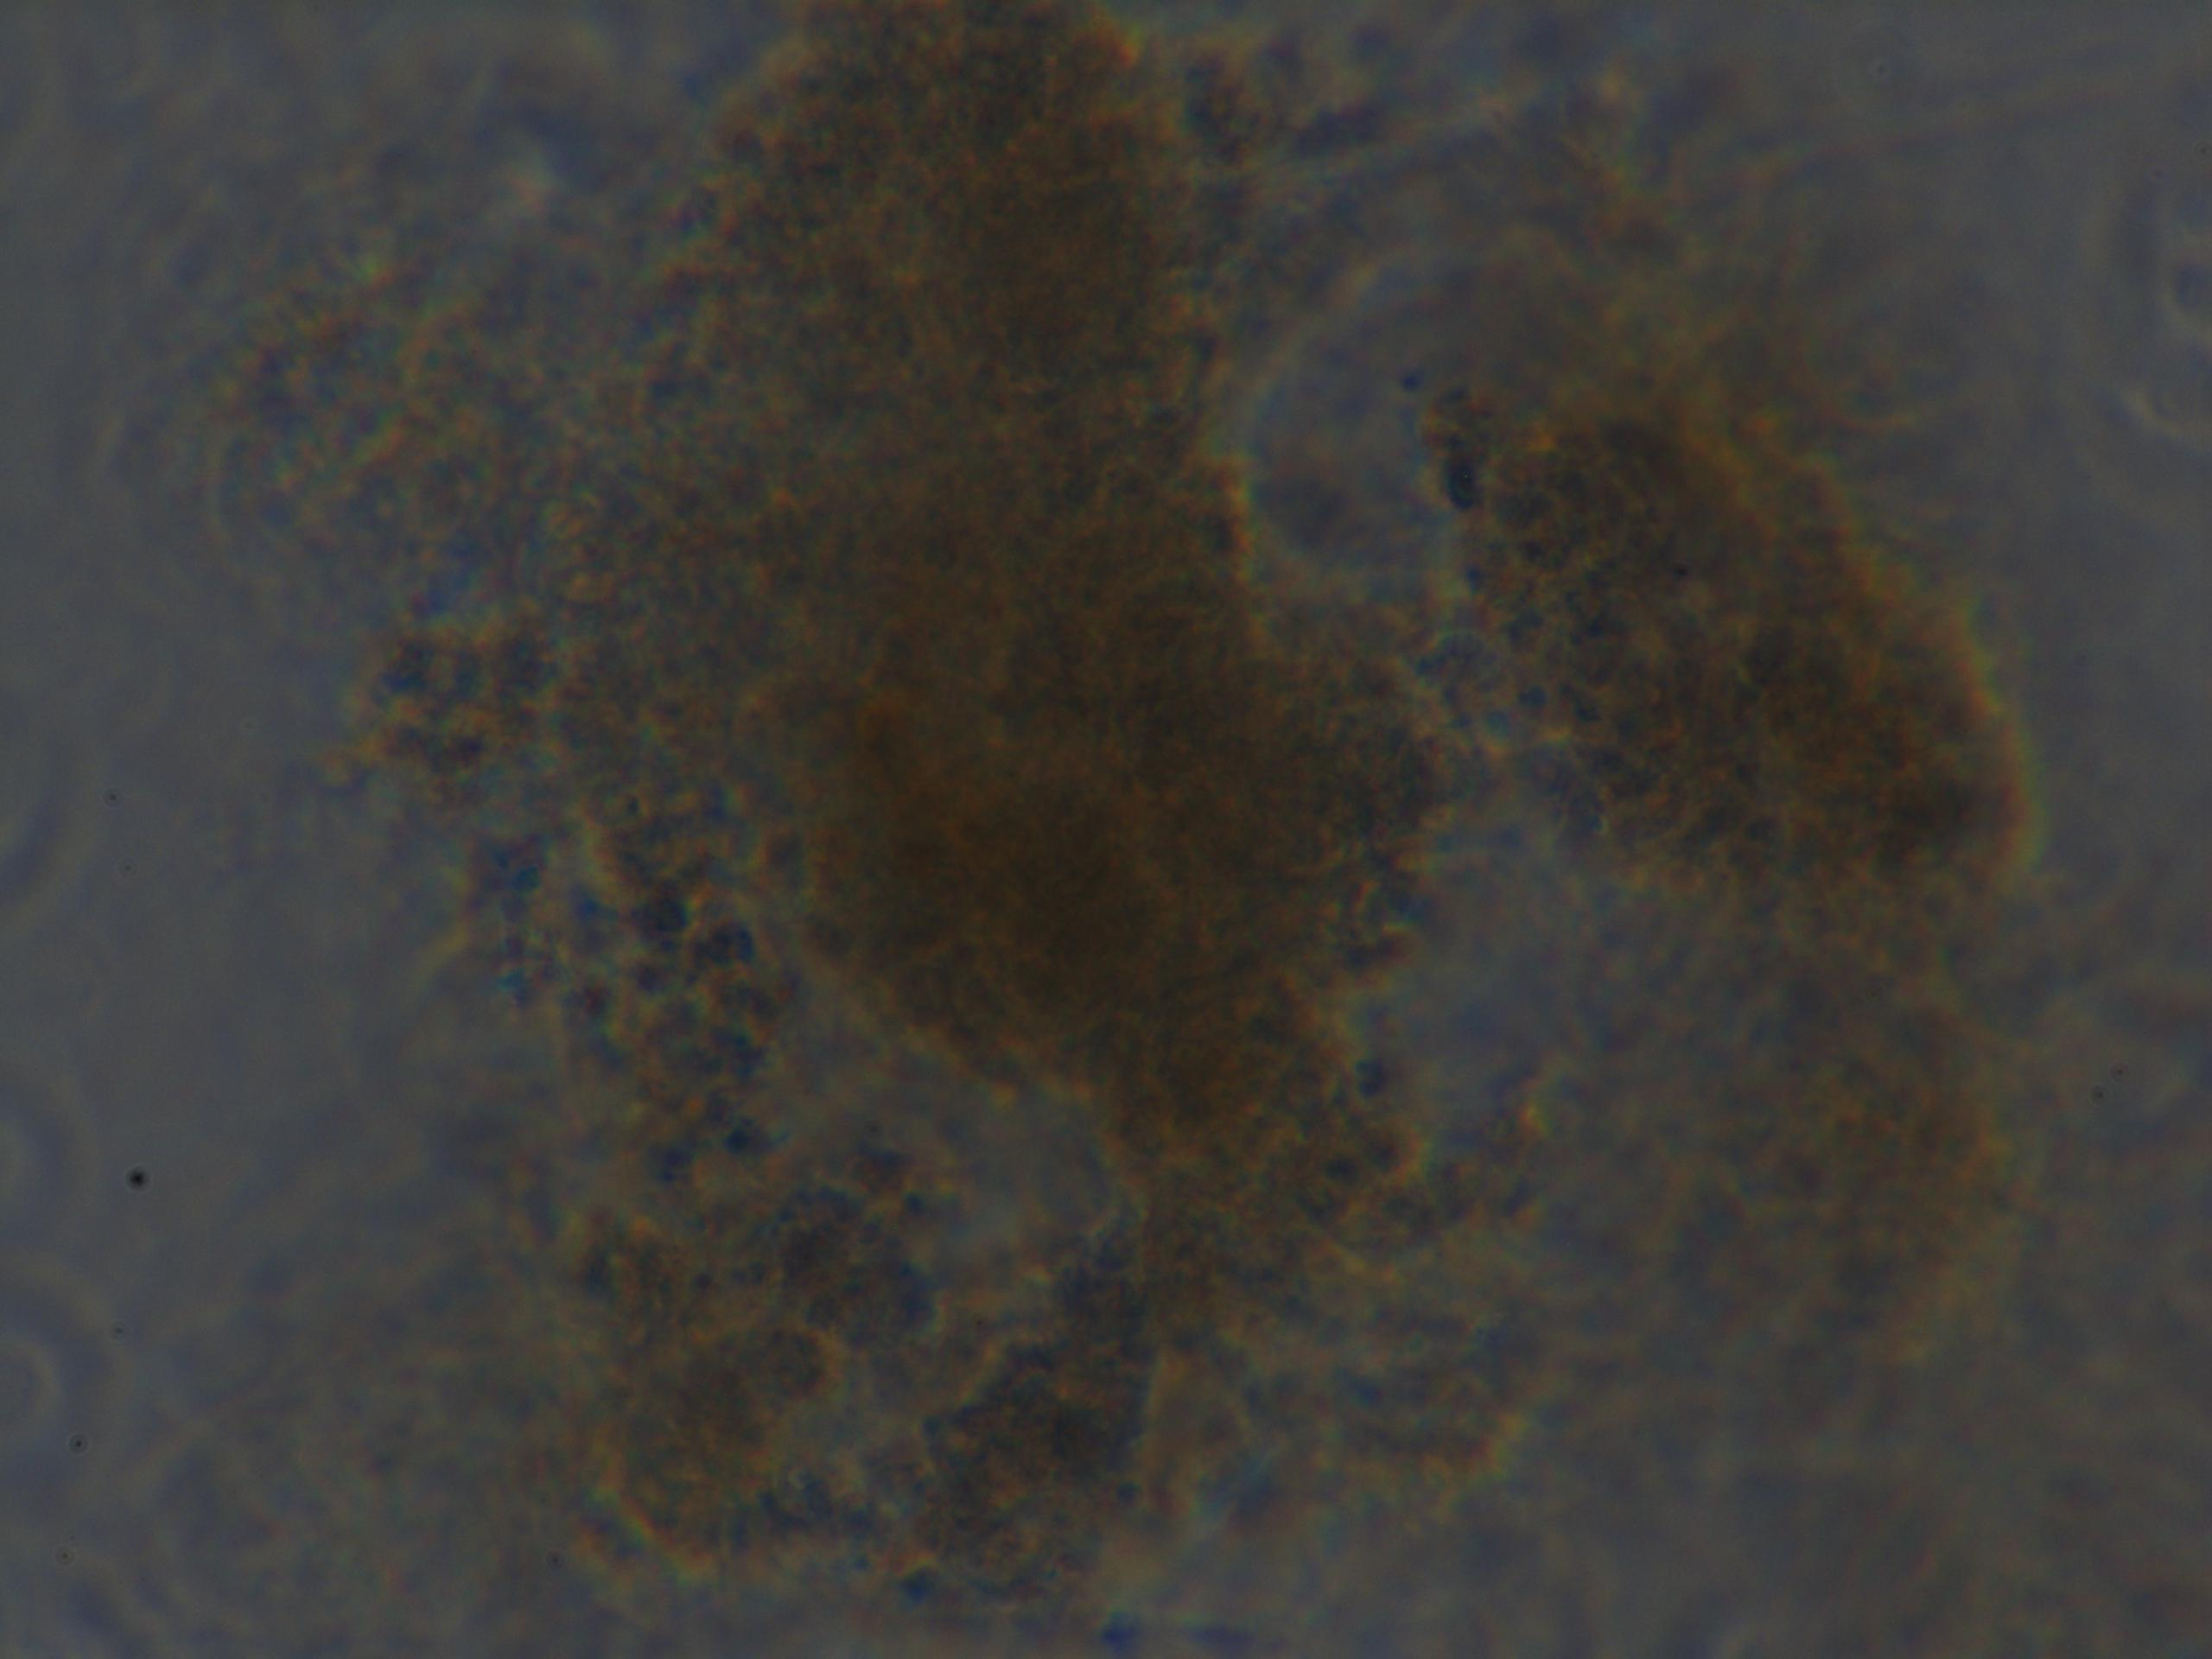spherical_floc: (418, 7, 2022, 1614)
